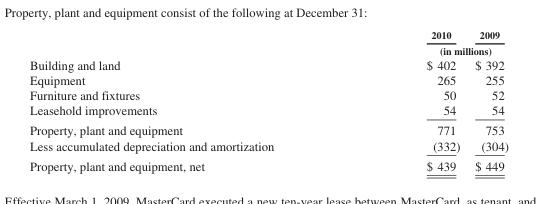table: (28, 29, 507, 172)
table column: (28, 29, 349, 172), (349, 29, 466, 172), (466, 29, 507, 172)
table column header: (28, 29, 507, 56)
table row: (28, 102, 507, 120), (28, 137, 507, 155), (28, 120, 507, 137), (28, 155, 507, 172), (28, 56, 507, 72), (28, 72, 507, 87), (28, 87, 507, 102), (28, 42, 507, 56), (28, 29, 507, 42)
table spanning cell: (349, 42, 507, 56)
